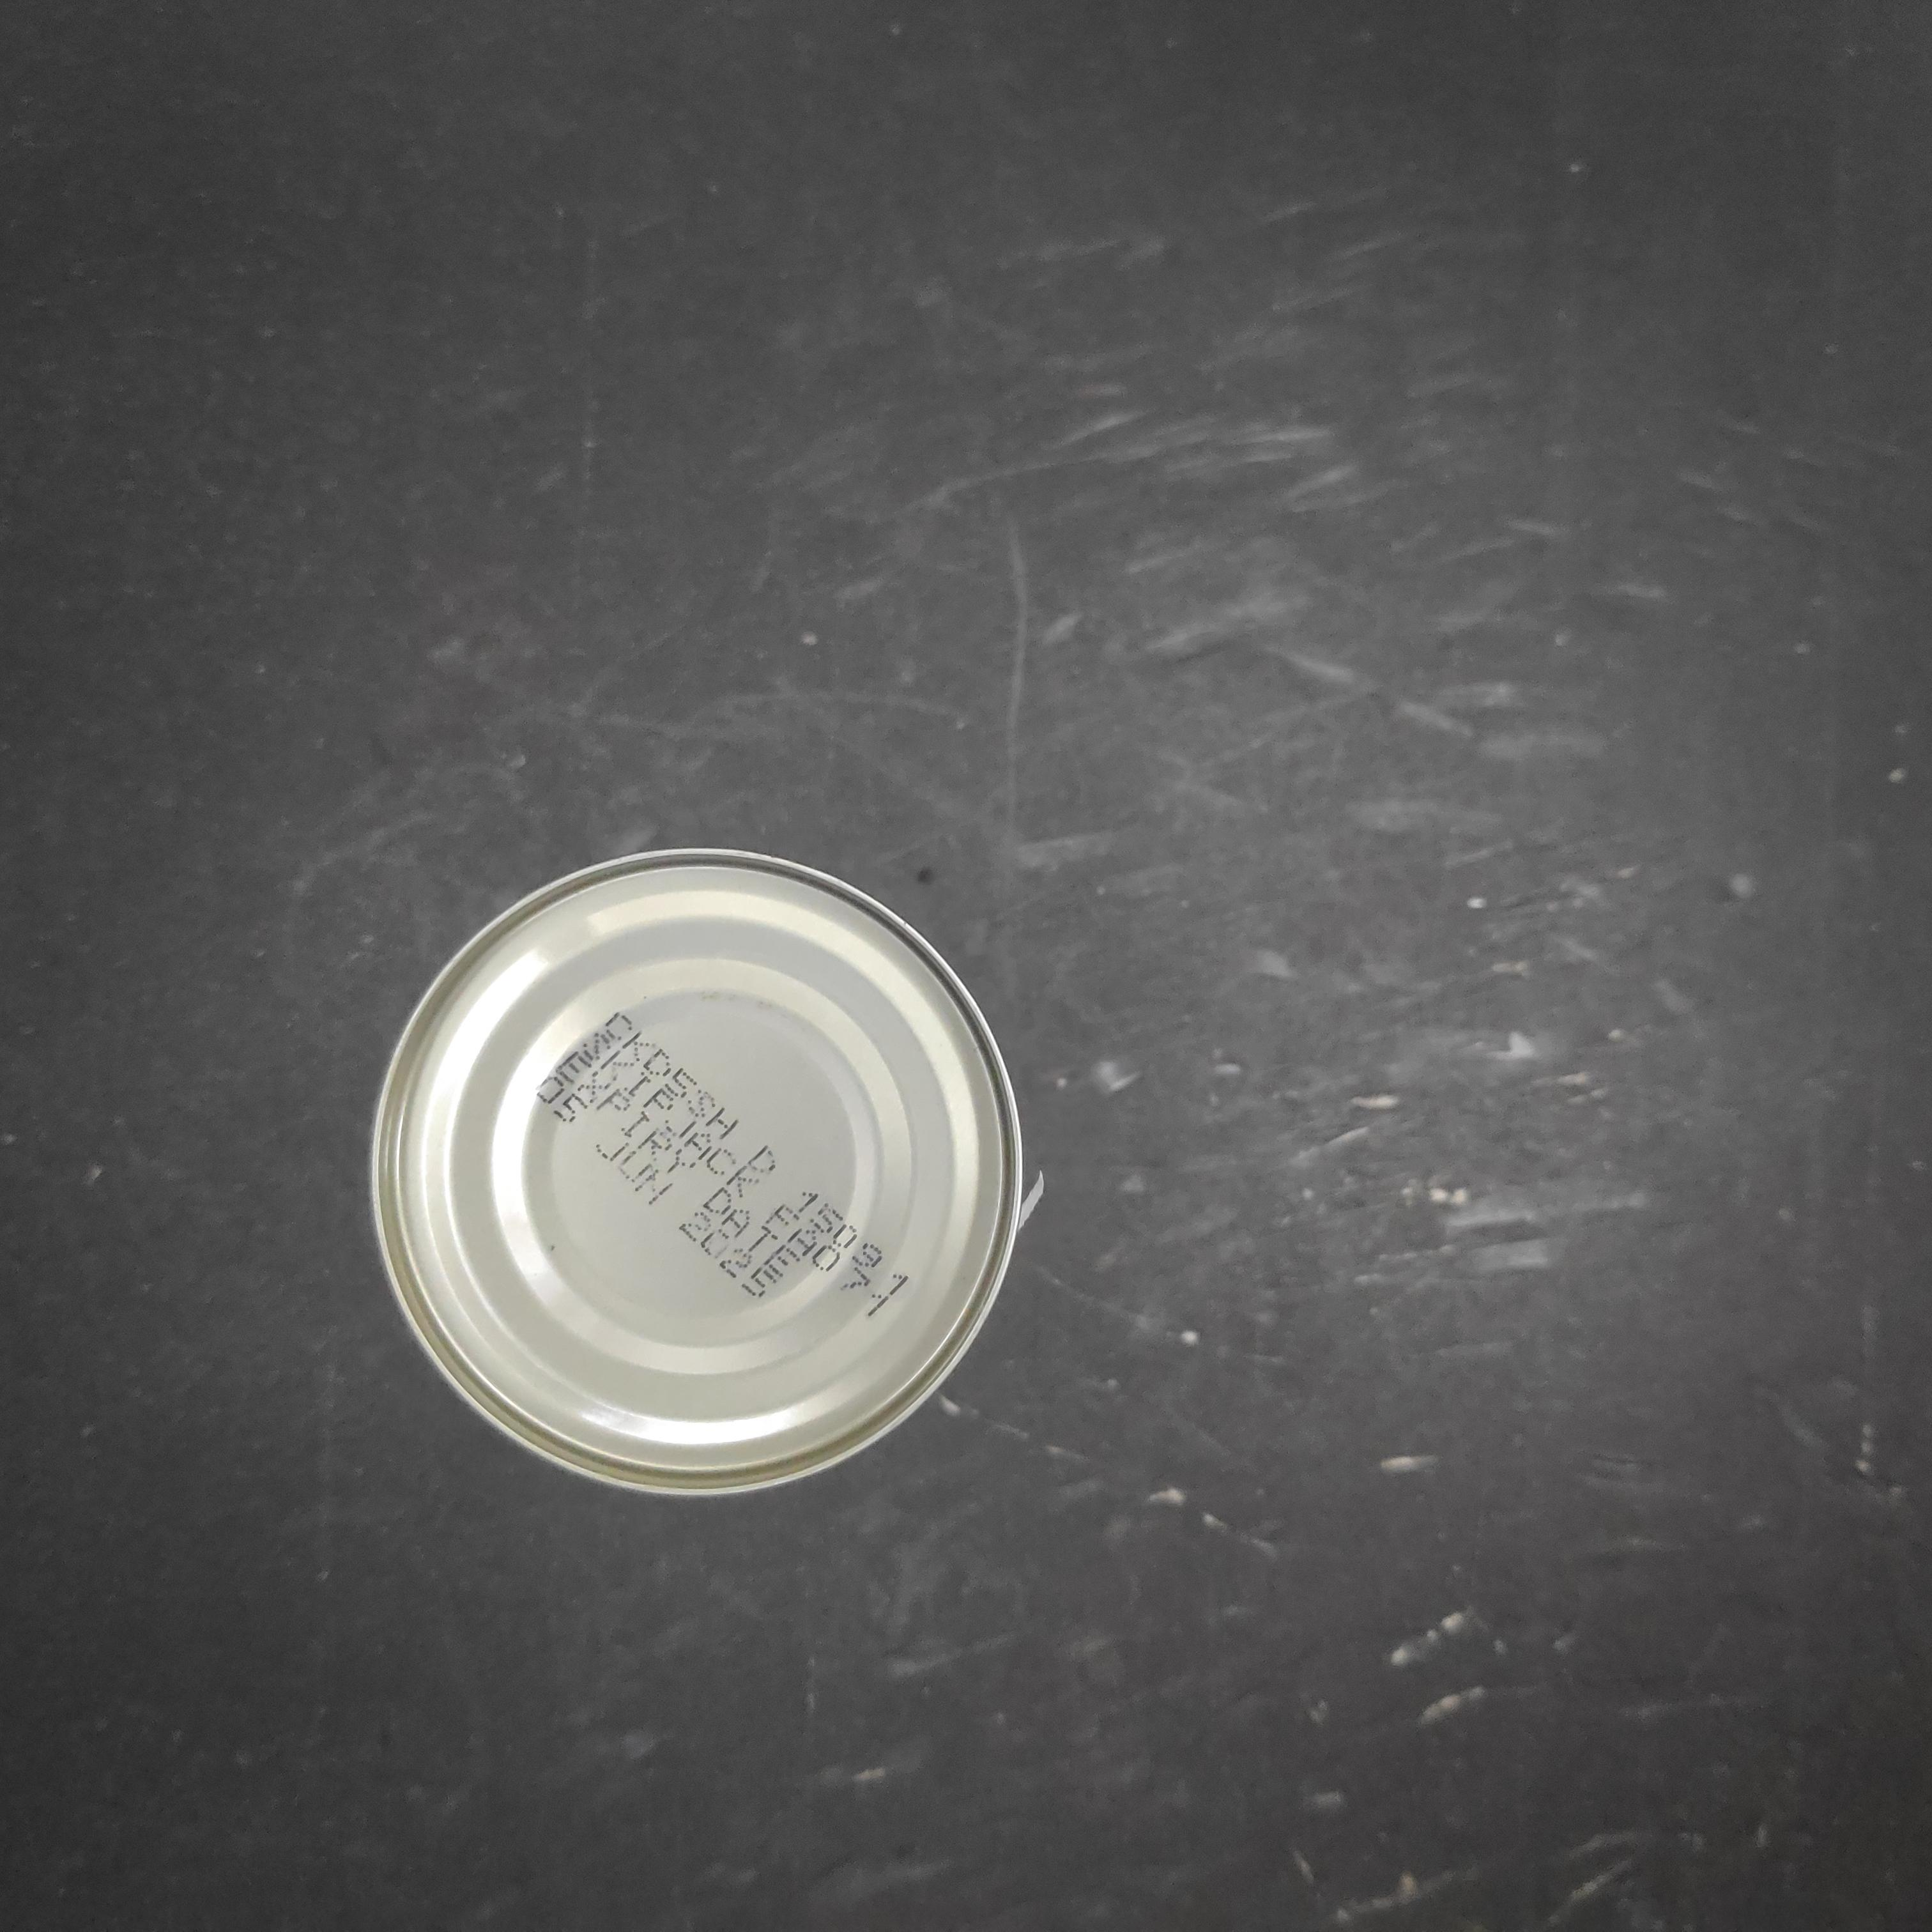No defect: (359, 837, 1042, 1513)
